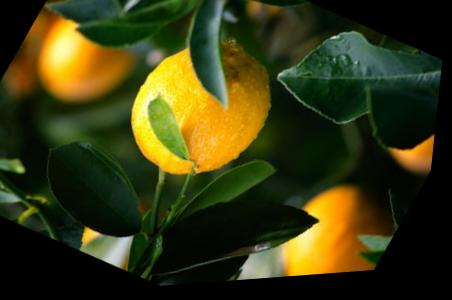Healthy Citrus: (274, 5, 449, 171), (19, 121, 182, 258), (151, 167, 331, 290)
